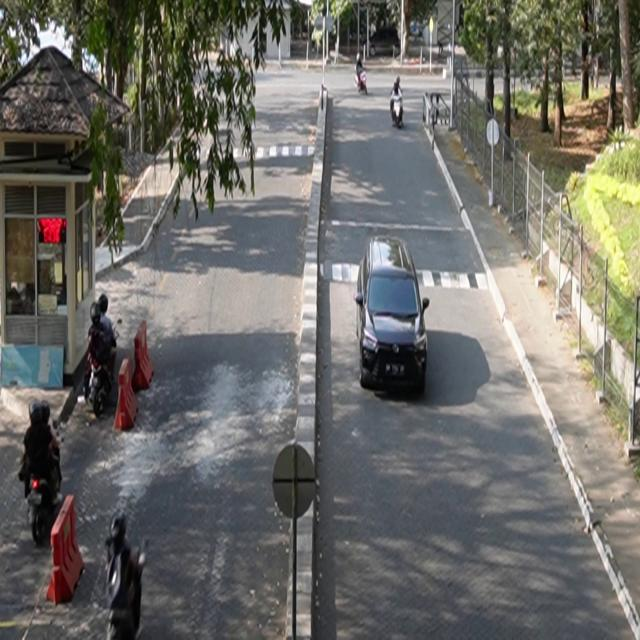car: (355, 235, 431, 393)
